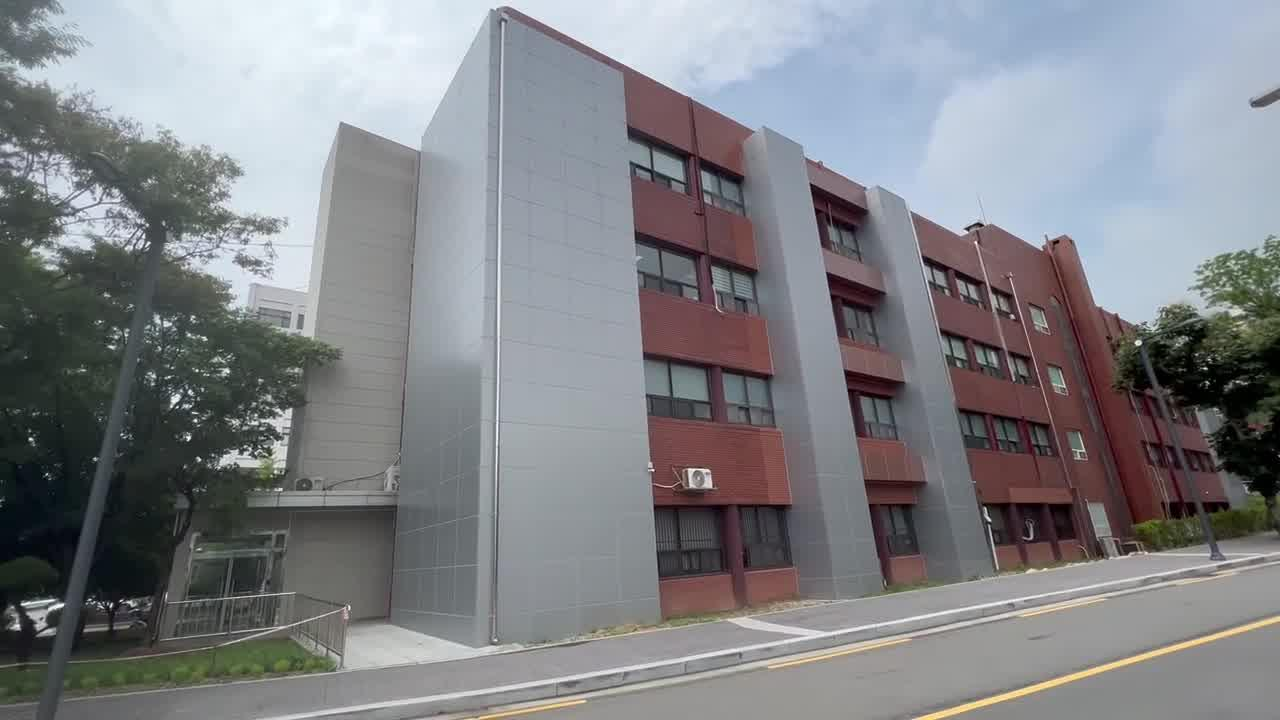building: (443, 46, 1122, 579)
